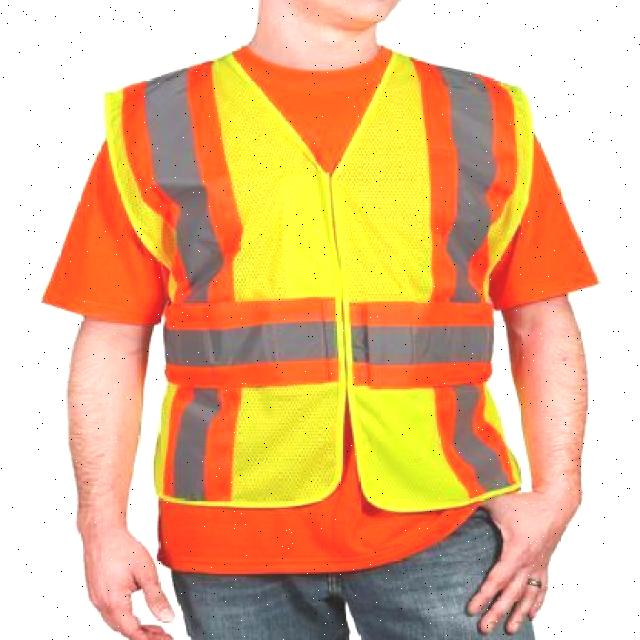Mask: (104, 36, 540, 512)
